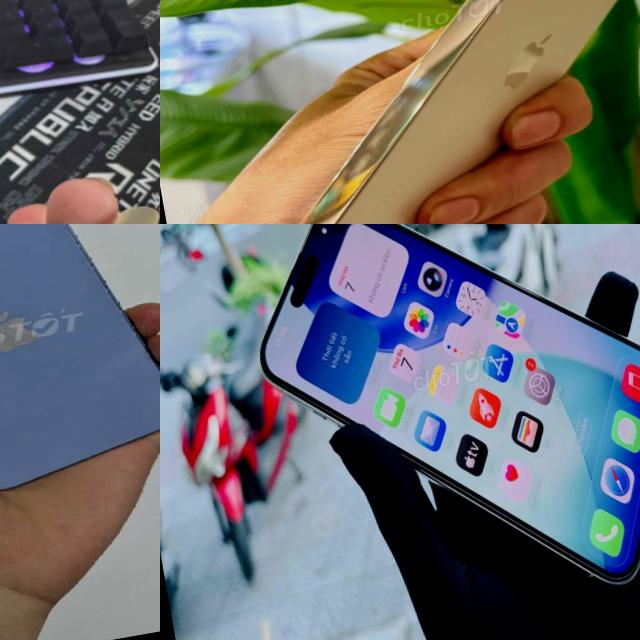gen_14: (191, 0, 640, 224), (0, 224, 160, 517)
gen_15: (230, 224, 640, 640)
